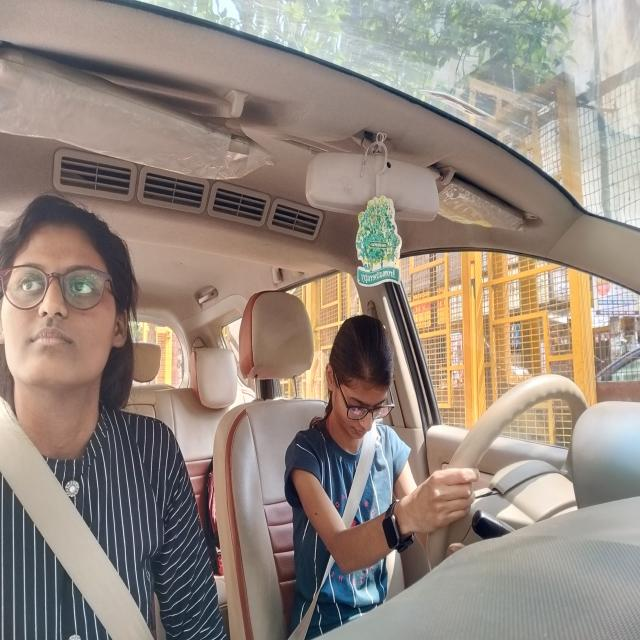drowsy: (324, 320, 408, 452)
person: (0, 198, 130, 399)
